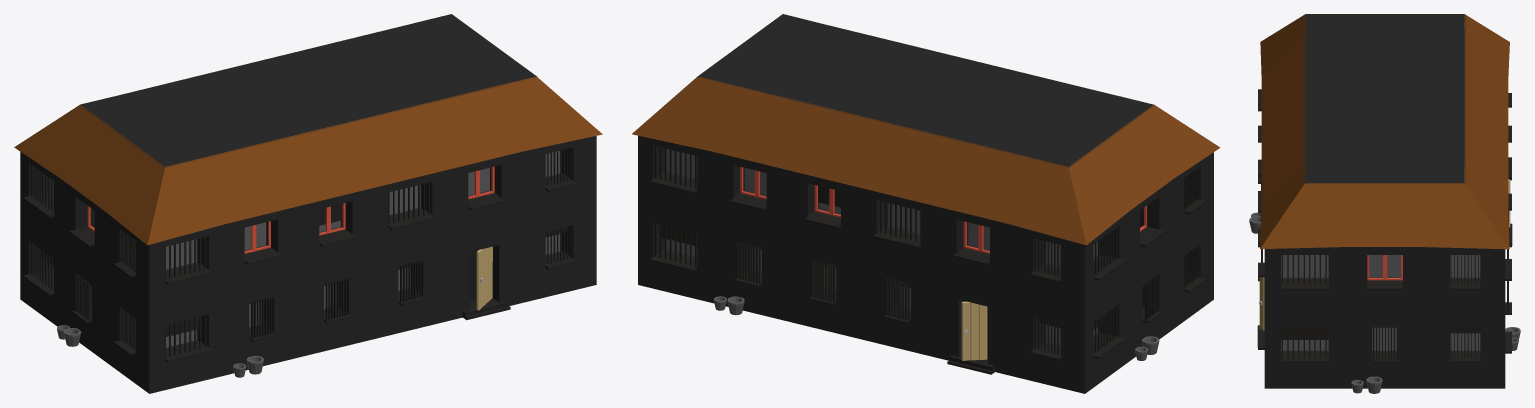
Rendered from CasaProcedural_14.fbx.
3 views of the same model, side by side, from view 1: azimuth 30°, elevation 25°; view 2: azimuth 150°, elevation 25°; view 3: azimuth 270°, elevation 25° (orthographic). The views are drawn at different scales.
Parts seen in each view (by area): view 1: Procedural_Building; view 2: Procedural_Building; view 3: Procedural_Building.
Boxes of the visible parts, x1,y1,x2,y2 form: Procedural_Building: [14, 14, 602, 393]; Procedural_Building: [632, 14, 1220, 393]; Procedural_Building: [1249, 14, 1520, 393].
Bounding box in the file's own units: 638 × 259 × 338.
